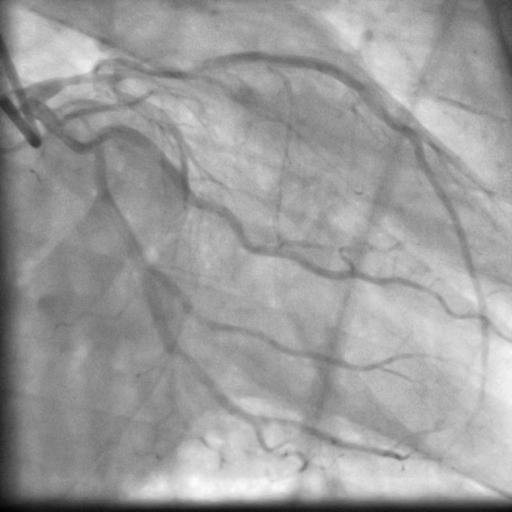Stenosis: (169, 57, 207, 76)
